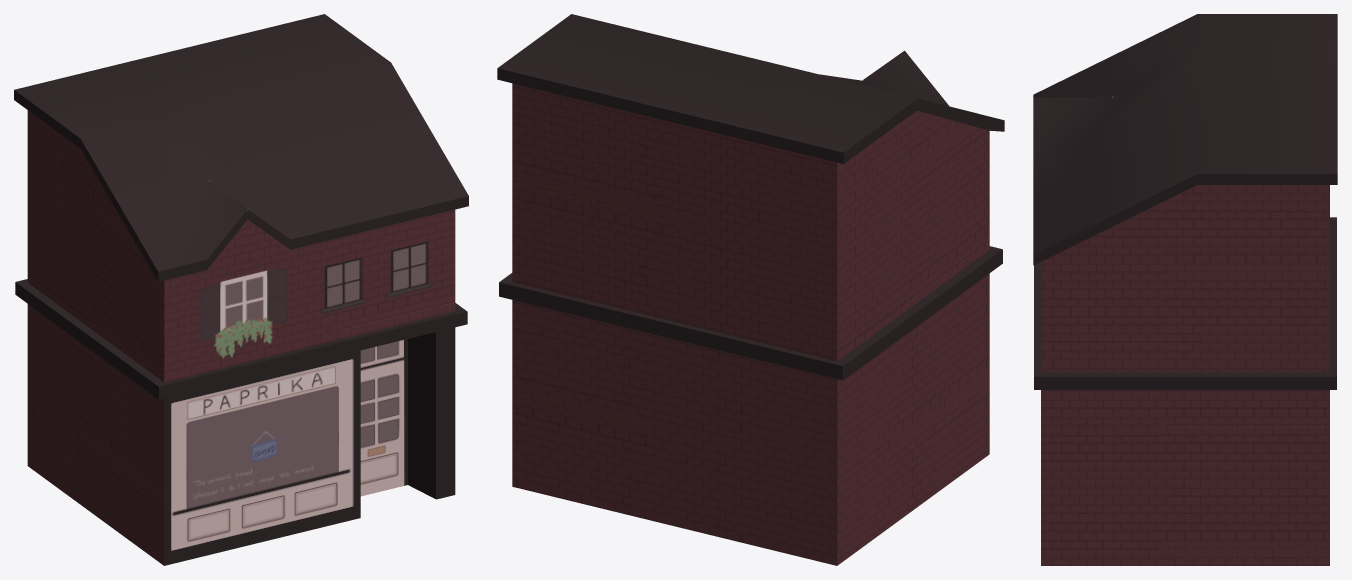
Rendered from 商店街_右開門.fbx.
The picture shows the model from 3 angles, left to right: view 1: azimuth 30°, elevation 25°; view 2: azimuth 150°, elevation 25°; view 3: azimuth 270°, elevation 25°; orthographic projection. The views are drawn at different scales.
Visible parts, largest first — view 1: pCube1; view 2: pCube1; view 3: pCube1.
Part boxes in pixels (box(x1,y1,x2,y2)): pCube1: box(14, 14, 468, 565); pCube1: box(497, 14, 1004, 565); pCube1: box(1033, 14, 1337, 565).
Bounding box in the file's own units: 11.31 × 13.08 × 9.09.
